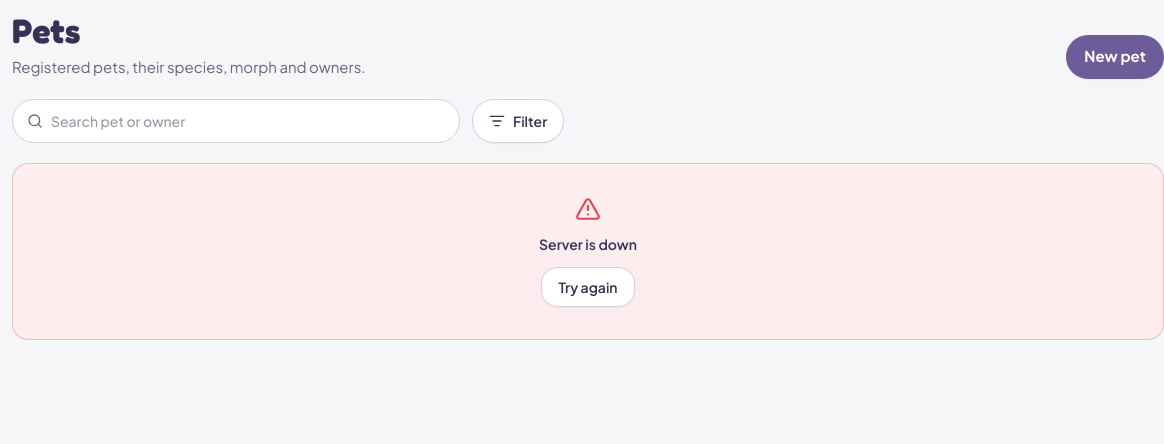
it: PetsPage › shows an error with retry when the list fails
Check: the text "Server is down" is shown, box [539,234,637,254]
What coordinates should you click on to do the following:
click the button "Try again"
I would click on:
 (588, 286)
Its box is [542,266,635,306].
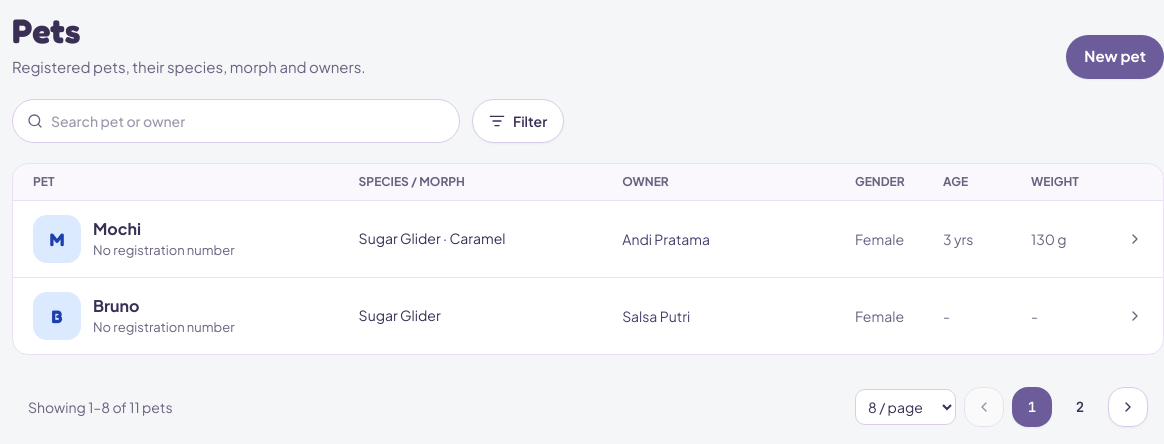
Check: the link "Mochi" is shown, box [13,200,1163,278]
